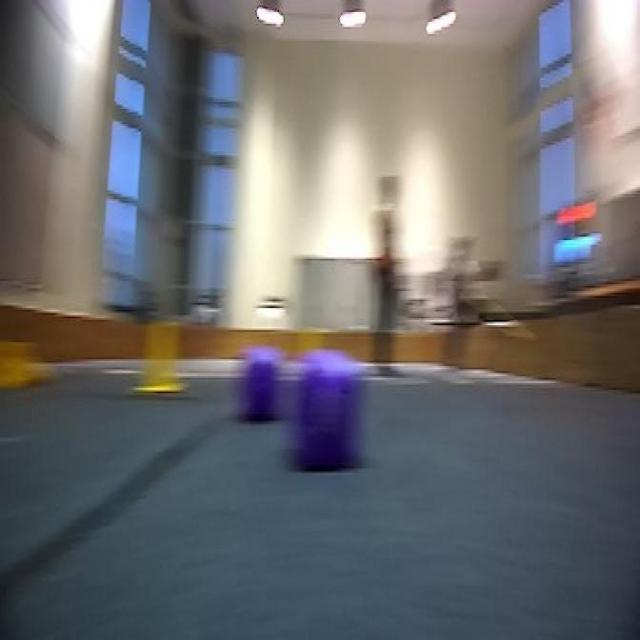frc_cone: (139, 314, 189, 404), (278, 330, 329, 402), (0, 334, 39, 392)
frc_cube: (299, 374, 364, 482), (244, 371, 279, 417)
